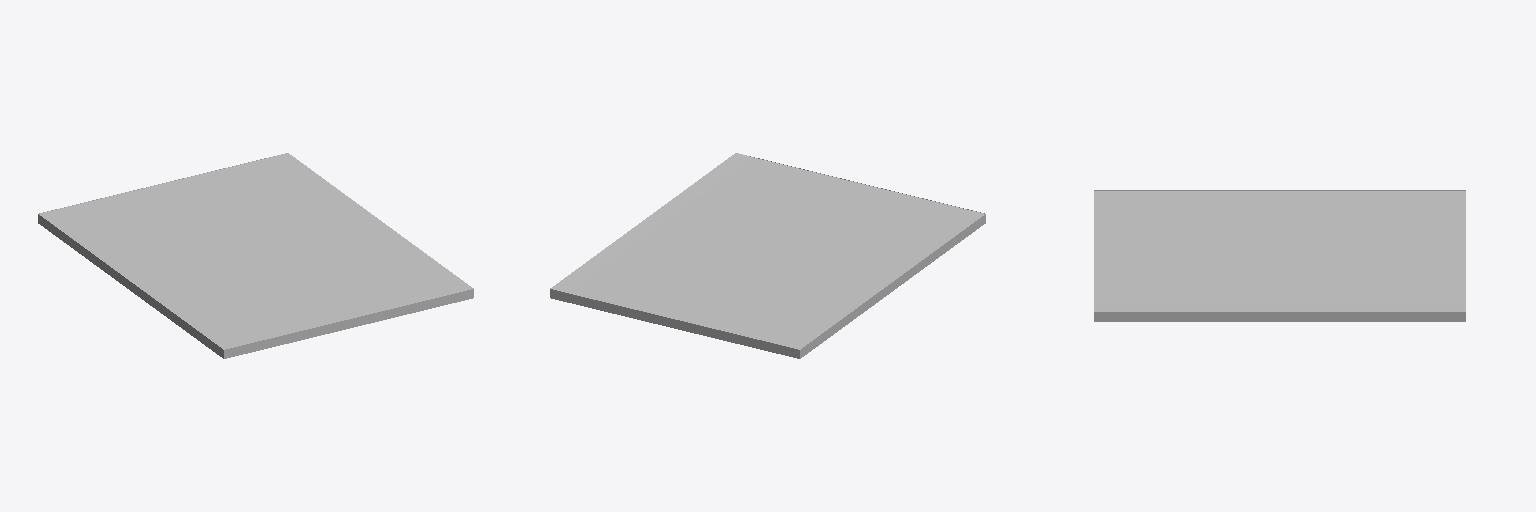
Rendered from ceiling.obj.
3 renders of one model, left to right at view 1: azimuth 30°, elevation 25°; view 2: azimuth 150°, elevation 25°; view 3: azimuth 270°, elevation 25°, orthographic.
Visible parts, largest first — view 1: Decke; view 2: Decke; view 3: Decke.
Part boxes in pixels (left/top/right/bottom): Decke: left=38, top=153, right=473, bottom=358; Decke: left=550, top=153, right=985, bottom=358; Decke: left=1094, top=190, right=1465, bottom=321.
Bounding box in the file's own units: 559 × 20 × 720.